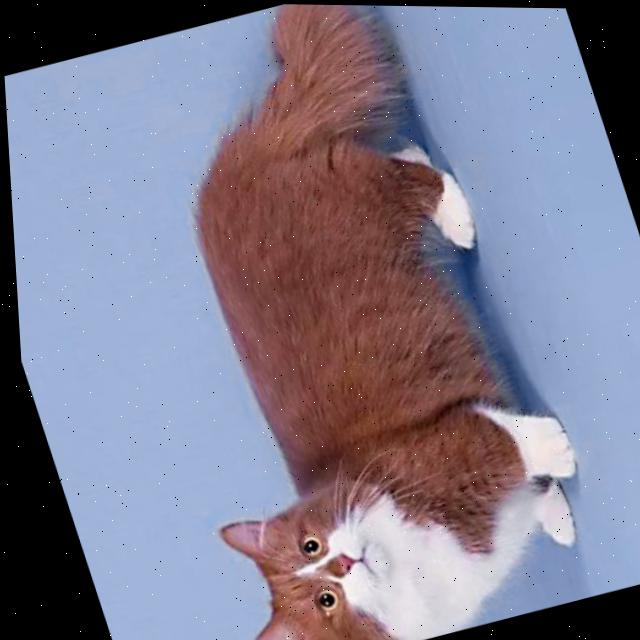Munchkin: (47, 1, 618, 640)
